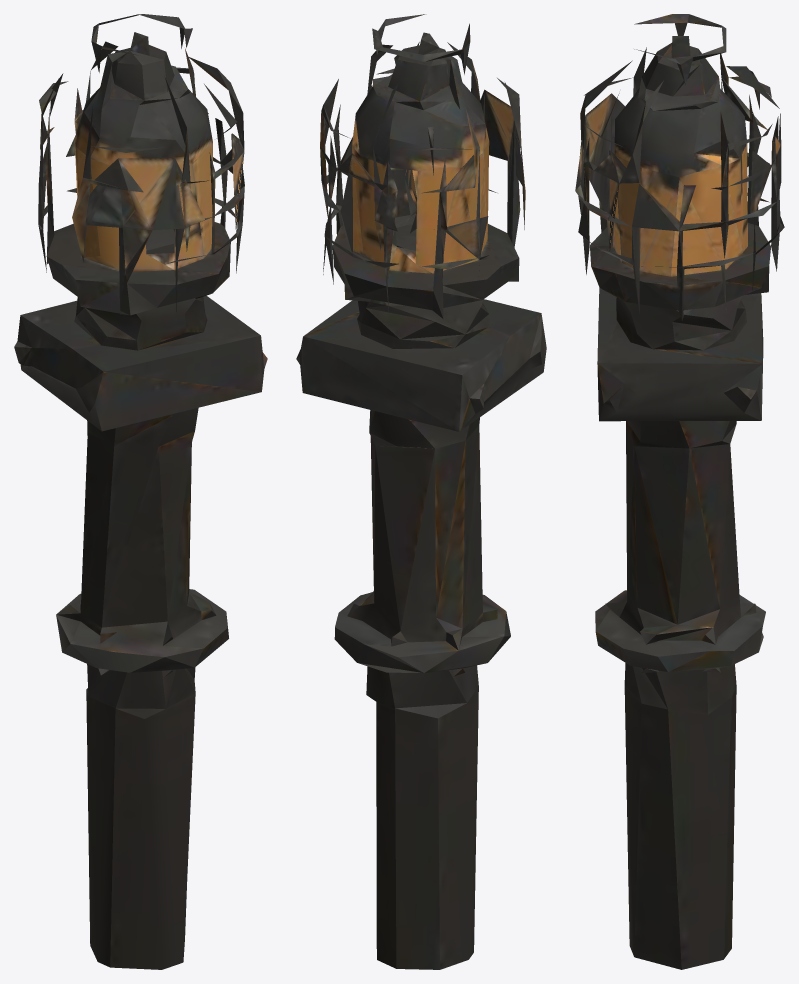
File: emergency_light.glb
3 views of the same model, side by side, from view 1: azimuth 30°, elevation 25°; view 2: azimuth 150°, elevation 25°; view 3: azimuth 270°, elevation 25° (orthographic).
Size of the model in its own units: 0.6688 by 3.2 by 0.6653.
1 material, 1 textured.
